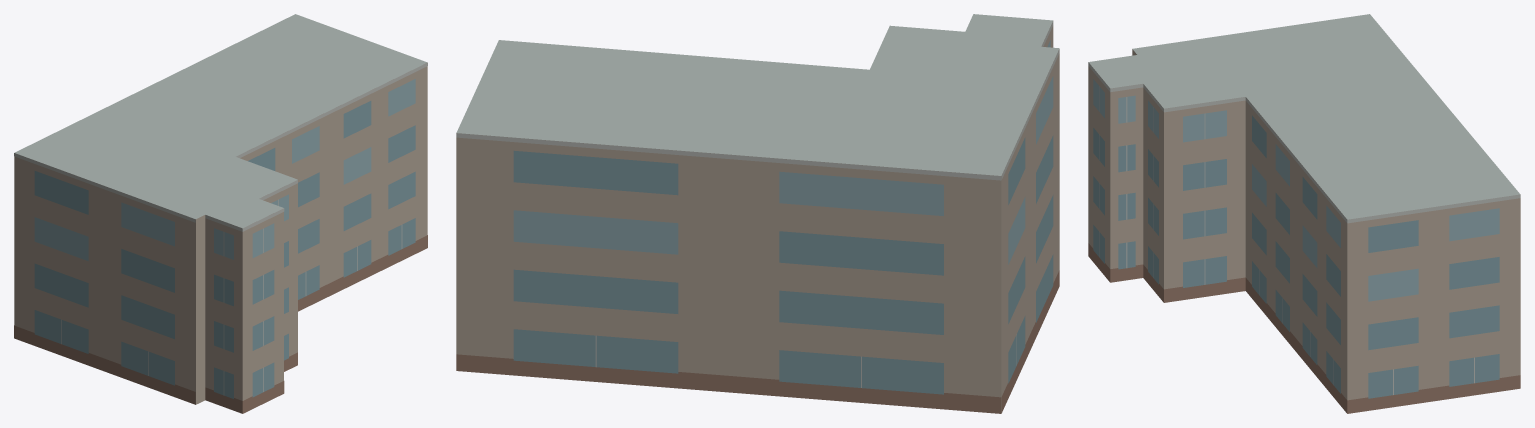
Rendered from survey-upis-32755476.glb.
The picture shows the model from 3 angles, left to right: view 1: azimuth 30°, elevation 25°; view 2: azimuth 150°, elevation 25°; view 3: azimuth 270°, elevation 25°; orthographic projection. The views are drawn at different scales.
Parts seen in each view (by area): view 1: survey-upis-32755476.tmp; view 2: survey-upis-32755476.tmp; view 3: survey-upis-32755476.tmp.
Part boxes in pixels (x1,y1,x2,y2): survey-upis-32755476.tmp: (14, 14, 427, 413); survey-upis-32755476.tmp: (456, 14, 1059, 413); survey-upis-32755476.tmp: (1088, 14, 1520, 413).
Bounding box in the file's own units: 29.09 × 12.8 × 25.82.
